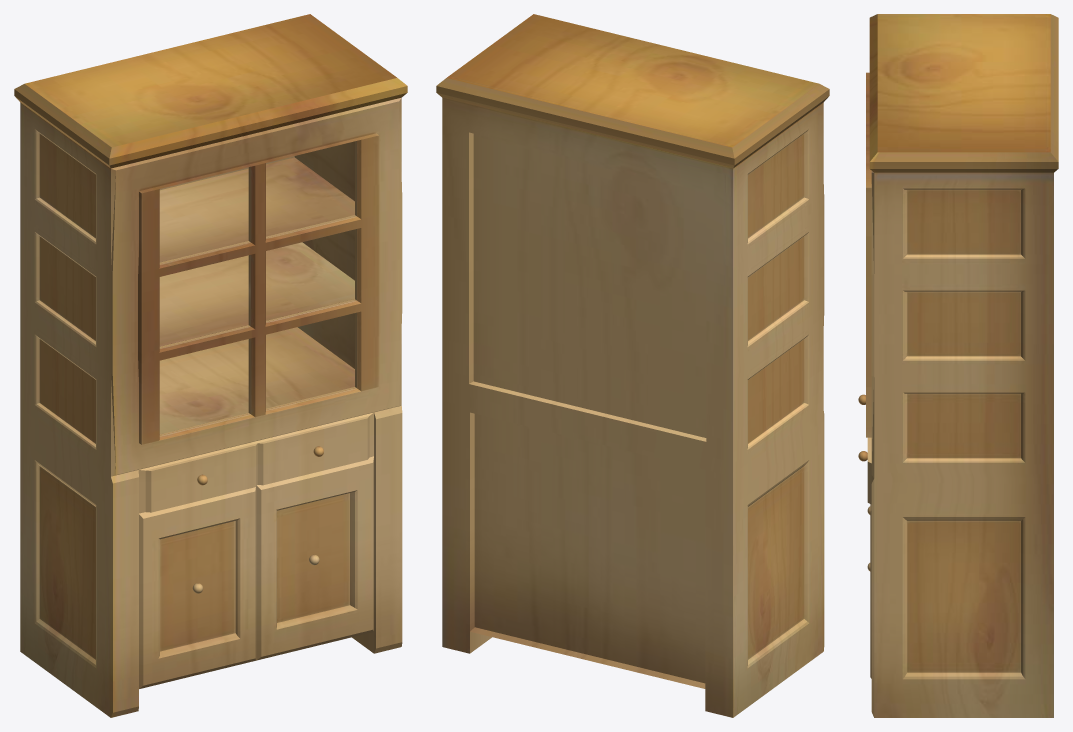
File: displayCabinet.fbx
3 renders of one model, left to right at view 1: azimuth 30°, elevation 25°; view 2: azimuth 150°, elevation 25°; view 3: azimuth 270°, elevation 25°, orthographic.
Parts seen in each view (by area): view 1: cabinet; view 2: cabinet; view 3: cabinet.
Boxes of the visible parts, x1,y1,x2,y2 form: cabinet: (14,14,407,717); cabinet: (436,14,829,717); cabinet: (866,14,1058,717).
Size of the model in its own units: 7.74 by 14.1 by 4.53.
Materials: 1 (1 with a texture image).
